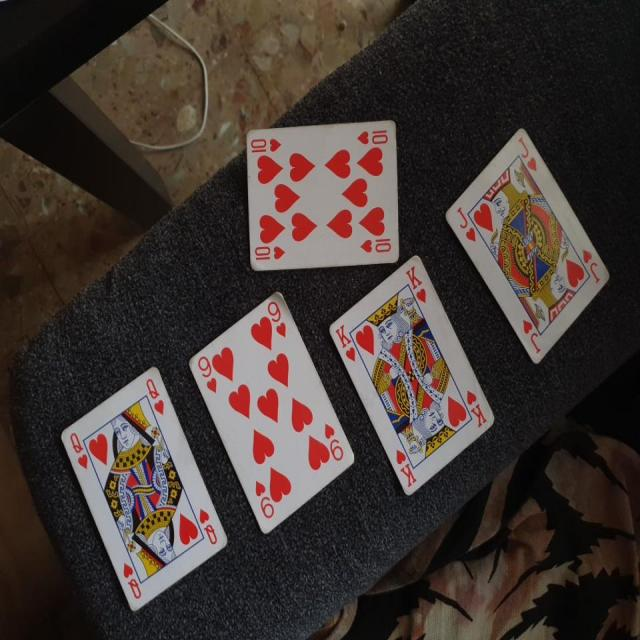10 Hearts: (240, 111, 406, 272)
9 Hearts: (185, 277, 360, 538)
J Hearts: (433, 124, 612, 370)
K Hearts: (329, 259, 501, 496)
Q Hearts: (54, 362, 229, 623)
